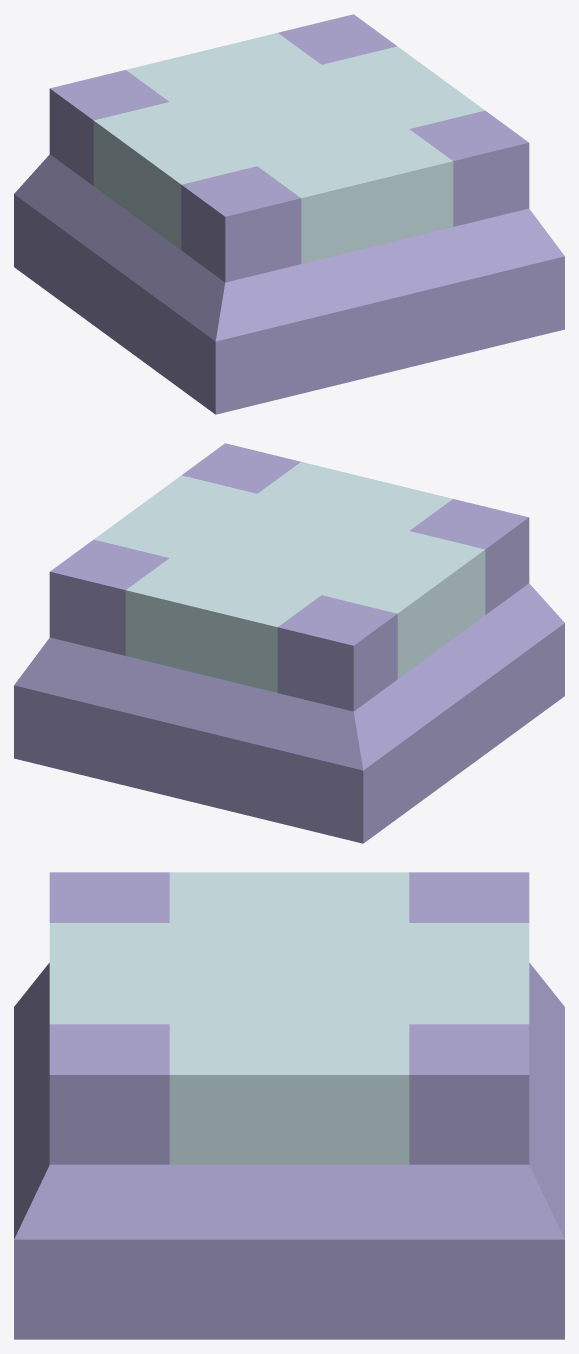
File: towerSquare_bottomC.glb
The picture shows the model from 3 angles, top to bottom: view 1: azimuth 30°, elevation 25°; view 2: azimuth 150°, elevation 25°; view 3: azimuth 270°, elevation 25°; orthographic projection. The views are drawn at different scales.
Visible parts, largest first — view 1: towerSquare_bottomC; view 2: towerSquare_bottomC; view 3: towerSquare_bottomC.
Boxes of the visible parts, left/top/right/bottom form: towerSquare_bottomC: left=14, top=14, right=564, bottom=414; towerSquare_bottomC: left=14, top=443, right=564, bottom=843; towerSquare_bottomC: left=14, top=872, right=564, bottom=1339.
Bounding box in the file's own units: 1 × 0.5 × 1.
